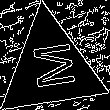M_W: (24, 41, 77, 94)
